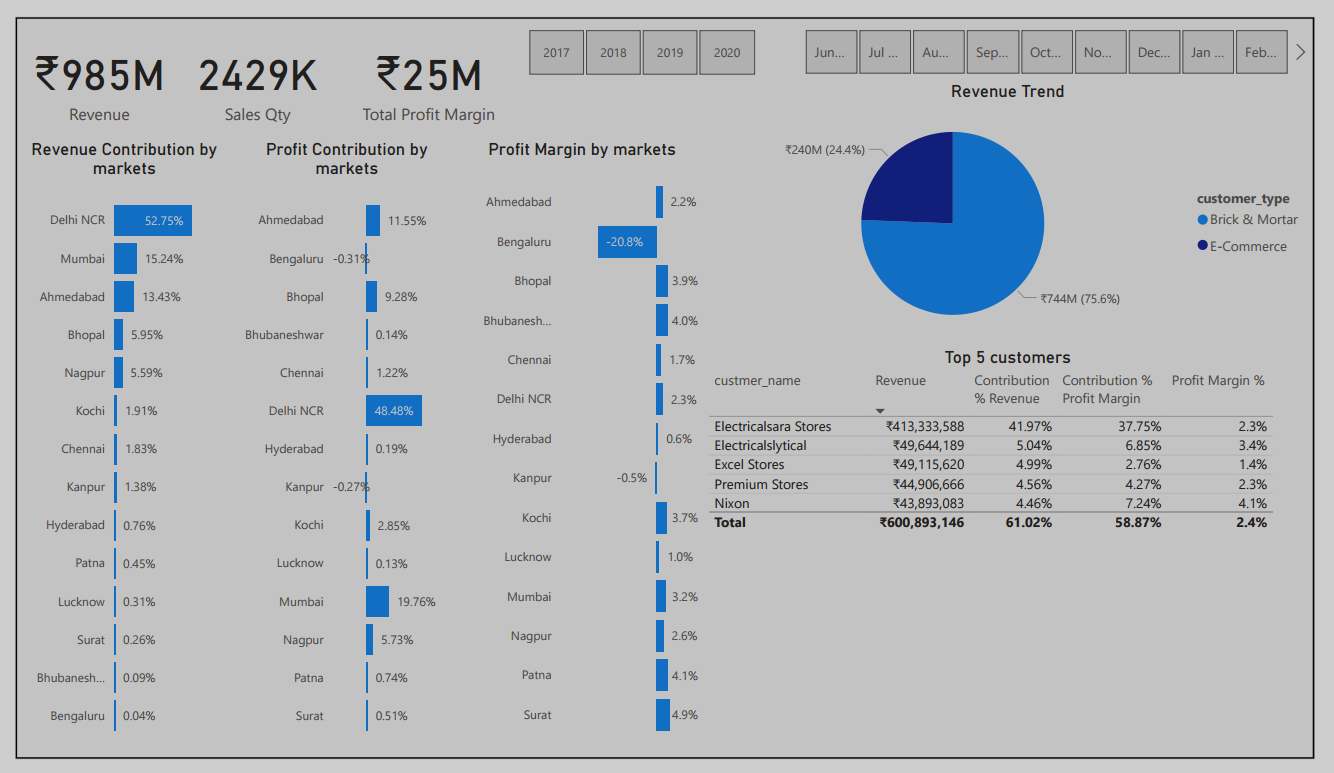

What the dashboard file says about the page in this screenshot:
{"tool":"powerbi","page":{"name":"Profit Analysis","canvas":[1280,720],"ordinal":1},"visuals":[{"type":"card","fields":{"Values":["Base_Measures.Revenue"]},"box":[0,0,165,115],"z":0},{"type":"card","fields":{"Values":["Base_Measures.Sales Qty"]},"box":[165,0,147.5,115],"z":1000},{"type":"clusteredBarChart","title":"Profit Margin by markets","fields":{"Category":["markets.markets_name"],"Y":["Base_Measures.Profit Margin %"]},"box":[440,114.3,238.6,605.7],"z":2000},{"type":"clusteredBarChart","title":"Profit Contribution by markets","fields":{"Category":["markets.markets_name"],"Y":["Base_Measures.Contribution % Profit Margin"]},"box":[214.3,114.3,225.7,605.7],"z":3000},{"type":"slicer","fields":{"Values":["date.year"]},"box":[481.2,0,272.5,57.5],"z":4000},{"type":"slicer","fields":{"Values":["date.cy_date"]},"box":[753.8,0,526.2,56.9],"z":5000},{"type":"tableEx","title":"Top 5 customers","fields":{"Values":["customers.custmer_name","Base_Measures.Revenue","Base_Measures.Contribution % Revenue","Base_Measures.Contribution % Profit Margin","Base_Measures.Profit Margin %"]},"box":[678.6,320,601.4,400],"z":6000},{"type":"pieChart","title":"Revenue Trend","fields":{"Y":["Base_Measures.Revenue"],"Category":["customers.customer_type"]},"box":[678.6,57.1,601.4,262.9],"z":8000},{"type":"card","fields":{"Values":["Base_Measures.Total Profit Margin"]},"box":[312.5,0,190,115],"z":9000},{"type":"clusteredBarChart","title":"Revenue Contribution by markets","fields":{"Category":["markets.markets_name"],"Y":["Base_Measures.Contribution % Revenue"]},"box":[0,114.3,214.3,605.7],"z":10000}]}

Visuals, with their boxes in screenshot pixels (x1, y1, x2, y2), scaled from the page's 1280x720 canvas onto the 1334x773 screenshot:
card - Base_Measures.Revenue: (left=0, top=0, right=172, bottom=123)
card - Base_Measures.Sales Qty: (left=172, top=0, right=326, bottom=123)
"Profit Margin by markets" clusteredBarChart: (left=459, top=123, right=707, bottom=772)
"Profit Contribution by markets" clusteredBarChart: (left=223, top=123, right=459, bottom=772)
slicer - date.year: (left=502, top=0, right=785, bottom=62)
slicer - date.cy_date: (left=786, top=0, right=1333, bottom=61)
"Top 5 customers" tableEx: (left=707, top=344, right=1333, bottom=772)
"Revenue Trend" pieChart: (left=707, top=61, right=1333, bottom=344)
card - Base_Measures.Total Profit Margin: (left=326, top=0, right=524, bottom=123)
"Revenue Contribution by markets" clusteredBarChart: (left=0, top=123, right=223, bottom=772)
